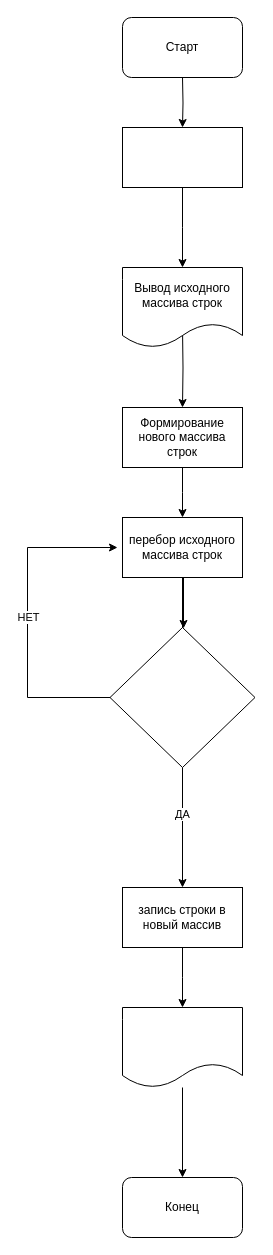
Some shapes in this 273 by 1255 pixel diagram are drawn without their labels. The centre of each missing label's shape, as x and y in pixels:
"Ввод исходного массива строк" goes at [182,157].
"Вывод нового массива строк" goes at [182,1047].
"проверка длины строки: длина <= 3" goes at [182,697].
